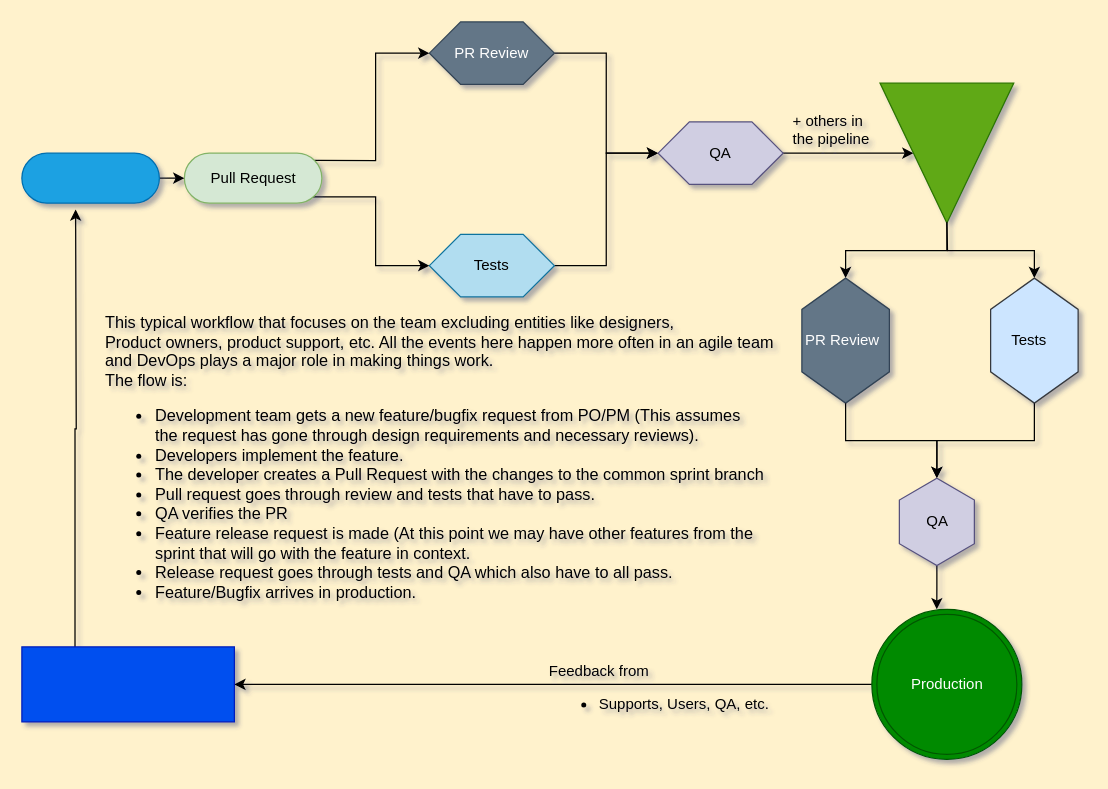
This 1108x789 diagram has some shape labels left out. The shapes that lost their labels are listed below. From the top down, each one's box as (x1, y1, x2, y2) in pixels, then its label:
(879, 82, 1014, 223): Release
(21, 152, 159, 203): Development
(21, 646, 234, 722): New features or Bugs
